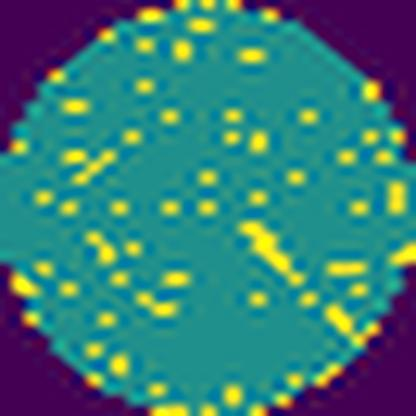Loc: (238, 218, 306, 291)
